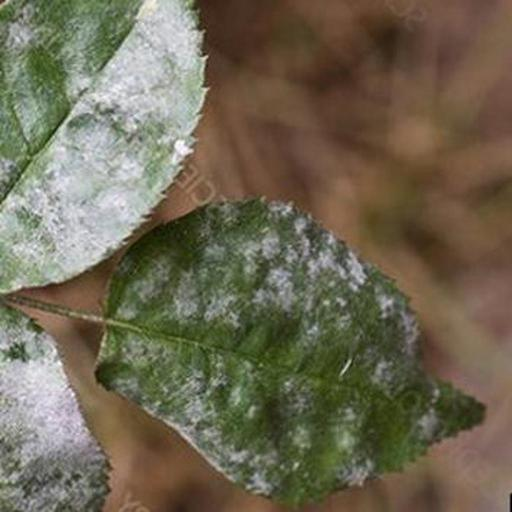powdery_mildew: (96, 200, 484, 504), (0, 0, 206, 292), (0, 305, 108, 512)
